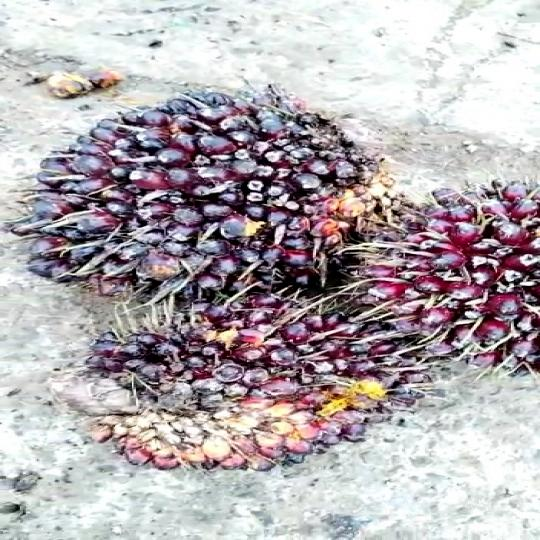kurang masak: (38, 275, 428, 485), (26, 75, 344, 315), (323, 137, 540, 380)
